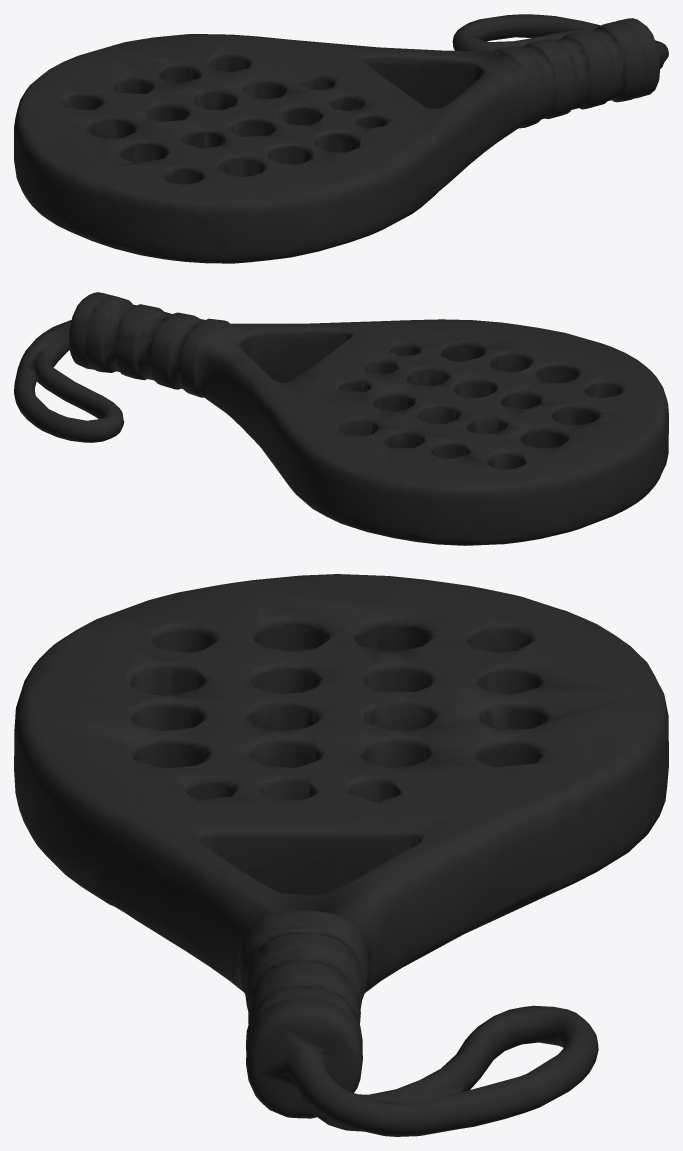
The model's file is racket.glb.
3 renders of one model, top to bottom at view 1: azimuth 30°, elevation 25°; view 2: azimuth 150°, elevation 25°; view 3: azimuth 270°, elevation 25°, orthographic. The views are drawn at different scales.
Size of the model in its own units: 1.9 by 0.2071 by 1.09.
1 material, 1 textured.
